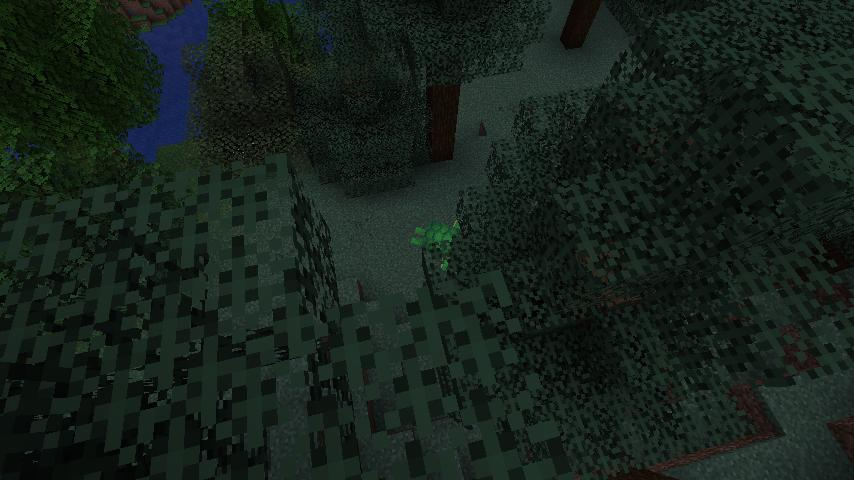turtle: (410, 218, 469, 271)
